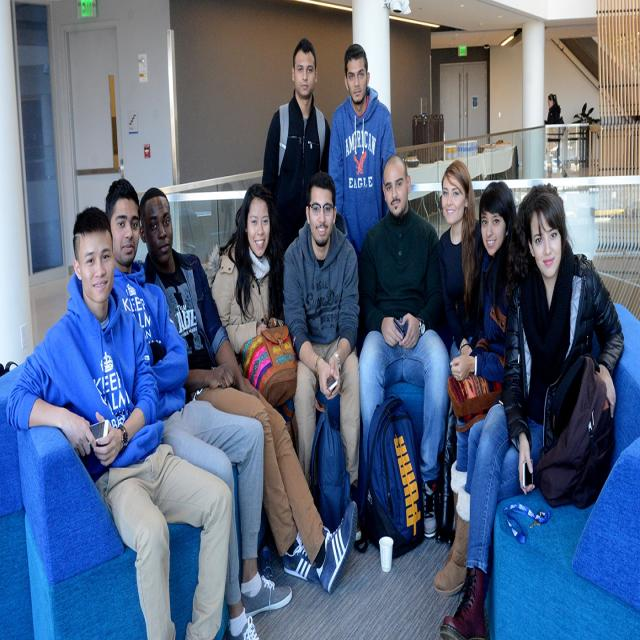body: (3, 199, 236, 639), (137, 185, 360, 598), (104, 173, 294, 640), (436, 180, 628, 639), (353, 151, 452, 543), (431, 178, 518, 598), (280, 170, 363, 543), (200, 181, 300, 458), (433, 157, 486, 547), (327, 42, 398, 258), (261, 38, 331, 256), (543, 91, 569, 179)
